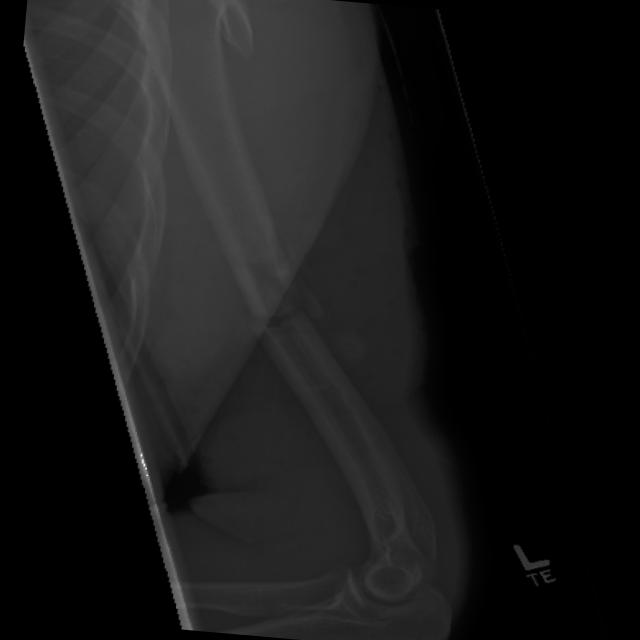humerus fracture: (206, 238, 382, 413)
